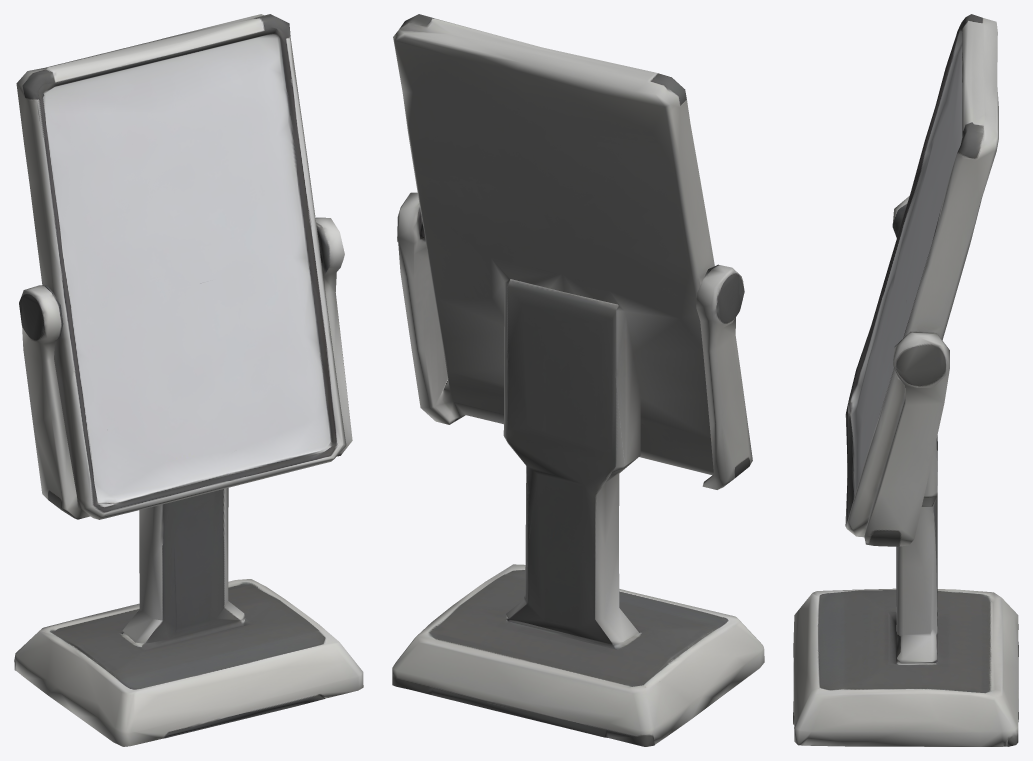
File: ENV_ALL_080_v001_RAW.glb.glb
3 renders of one model, left to right at view 1: azimuth 30°, elevation 25°; view 2: azimuth 150°, elevation 25°; view 3: azimuth 270°, elevation 25°, orthographic. The views are drawn at different scales.
Parts seen in each view (by area): view 1: tripo_node_60d183c1-c6b5-4768-b286-53e18e7abc60; view 2: tripo_node_60d183c1-c6b5-4768-b286-53e18e7abc60; view 3: tripo_node_60d183c1-c6b5-4768-b286-53e18e7abc60.
Boxes of the visible parts, bbox=[...] form: tripo_node_60d183c1-c6b5-4768-b286-53e18e7abc60: bbox=[14, 14, 363, 746]; tripo_node_60d183c1-c6b5-4768-b286-53e18e7abc60: bbox=[392, 14, 764, 746]; tripo_node_60d183c1-c6b5-4768-b286-53e18e7abc60: bbox=[793, 14, 1018, 746].
Size of the model in its own units: 0.5049 by 0.9797 by 0.3258.
1 material, 1 textured.
